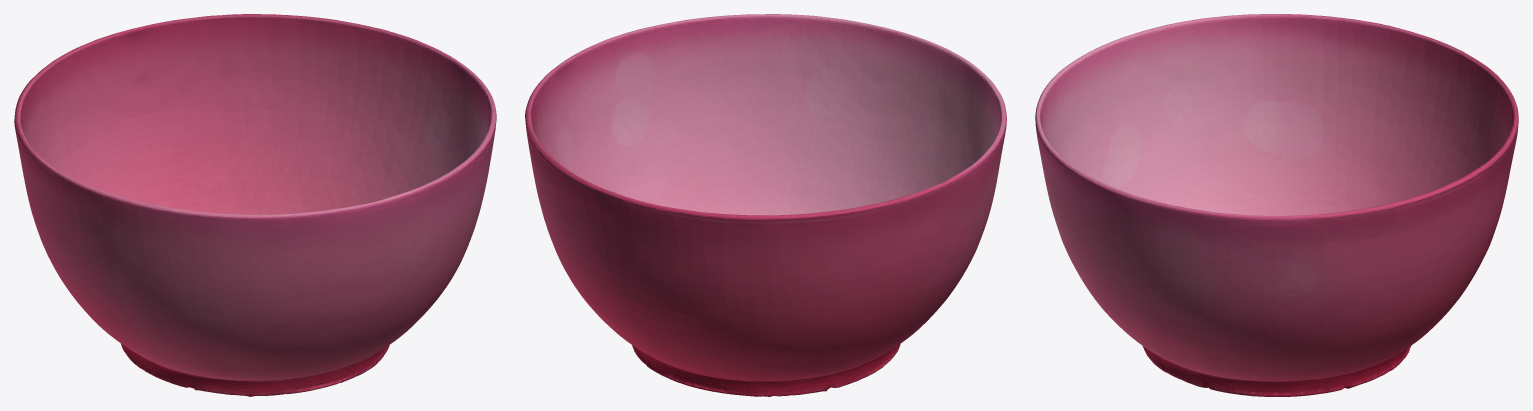
Rendered from plasticbowl.glb.
3 renders of one model, left to right at view 1: azimuth 30°, elevation 25°; view 2: azimuth 150°, elevation 25°; view 3: azimuth 270°, elevation 25°, orthographic.
Visible parts, largest first — view 1: world; view 2: world; view 3: world.
Boxes of the visible parts, bbox=[...] form: world: bbox=[14, 14, 496, 396]; world: bbox=[525, 14, 1006, 396]; world: bbox=[1035, 14, 1518, 396].
Size of the model in its own units: 0.9994 by 0.5197 by 0.999.
1 material, 1 textured.
